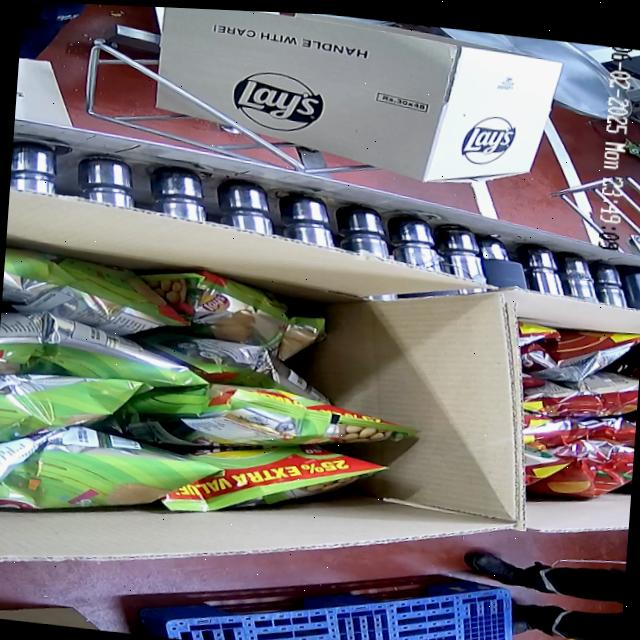MASALA: (500, 315, 640, 505)
YOGURT_HERB: (0, 246, 417, 577)
